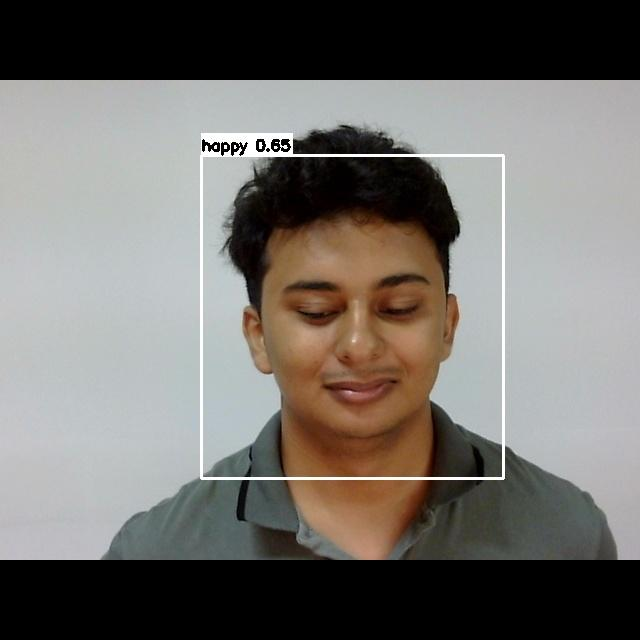Happy: (252, 251, 457, 412)
